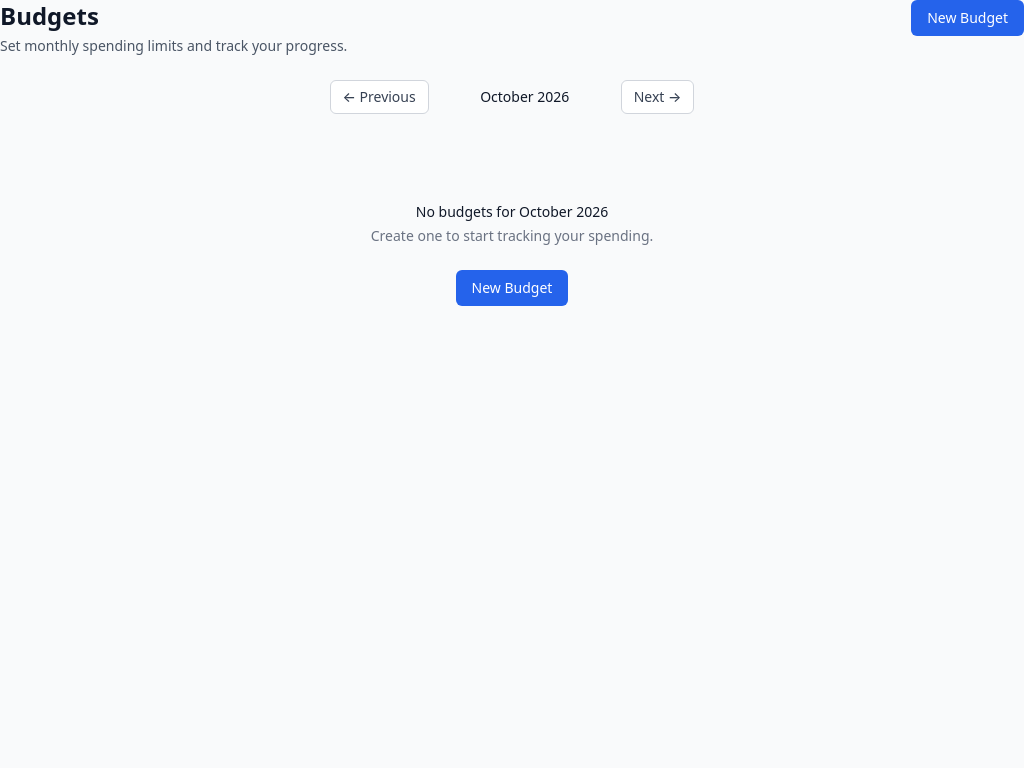
Test: Budgets — create dialog › opens create dialog with eligible categories
Click the 1st button "New Budget".
click(968, 18)  # box top-left (911, 0), bottom-right (1023, 36)
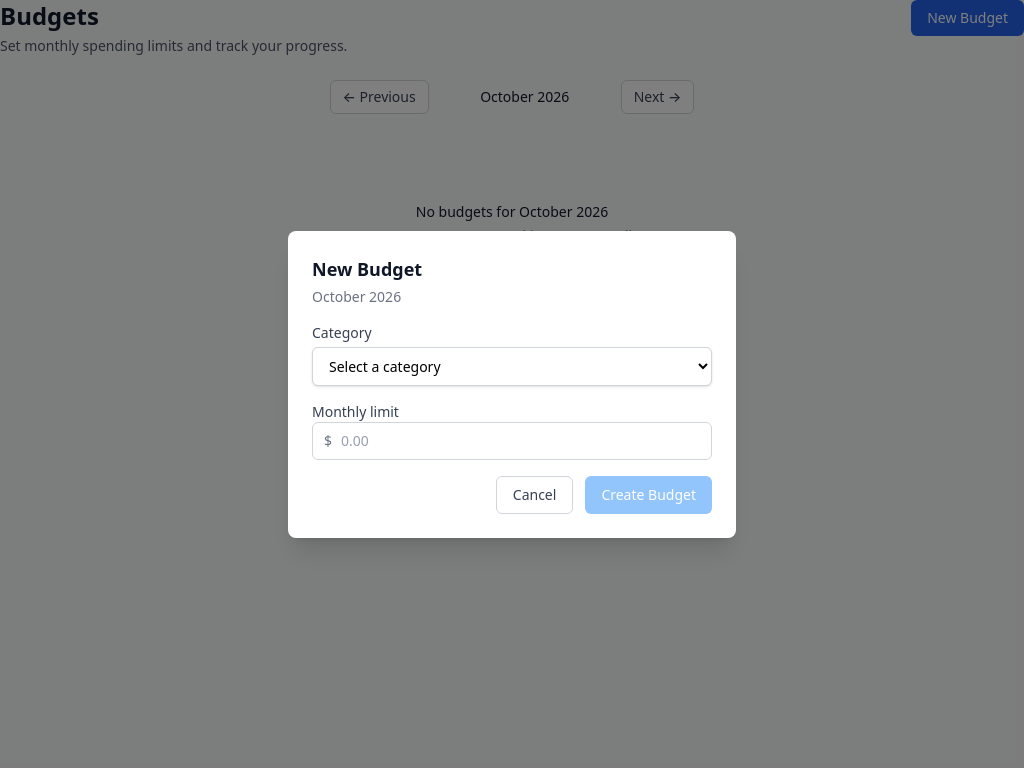
Now the text "Category" is shown, box top-left (312, 322), bottom-right (372, 342)
